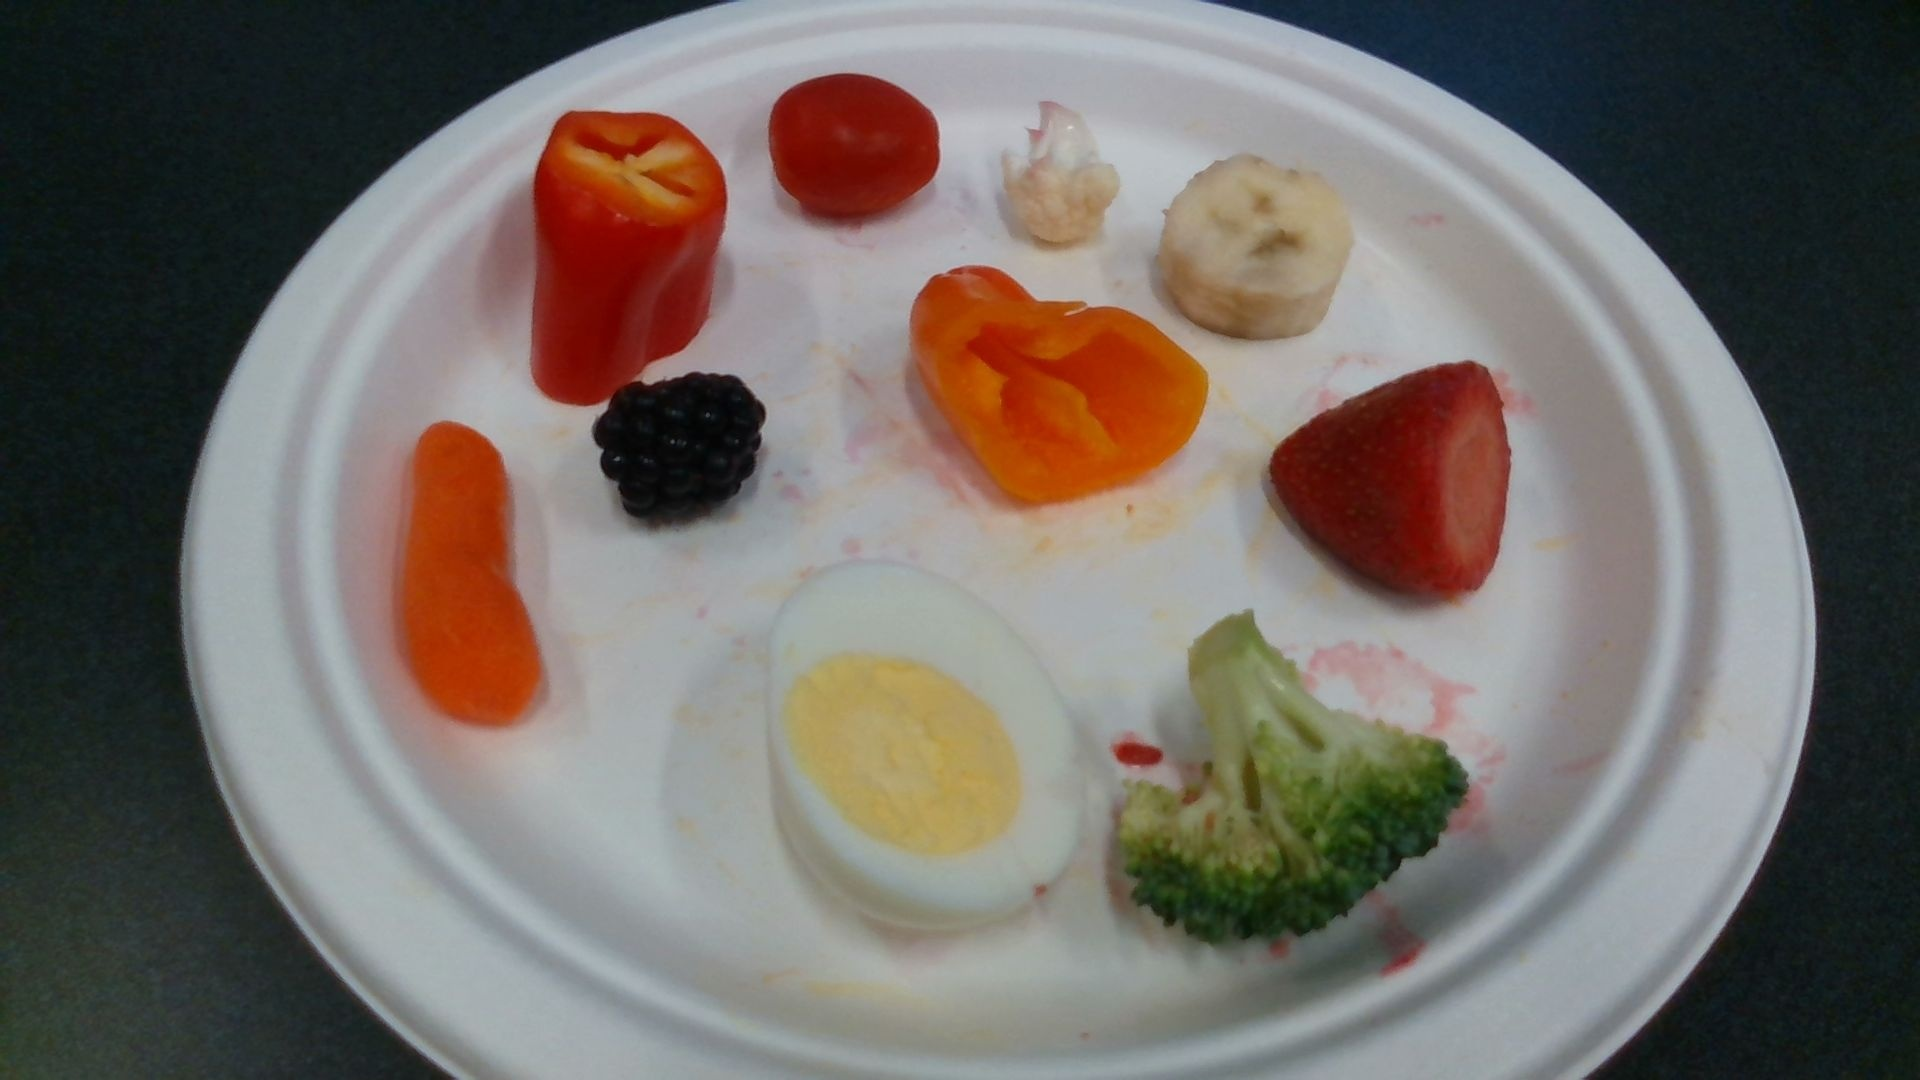banana: (1164, 158, 1356, 336)
bell_pepper: (910, 268, 1209, 502), (535, 113, 724, 405)
blackberry: (595, 380, 762, 525)
broccoli: (1120, 613, 1469, 936)
carrot: (400, 418, 545, 731)
cauliflower: (1002, 102, 1120, 243)
cherry_tomato: (774, 73, 938, 211)
egg: (774, 560, 1080, 928)
strawberry: (1274, 365, 1509, 605)
